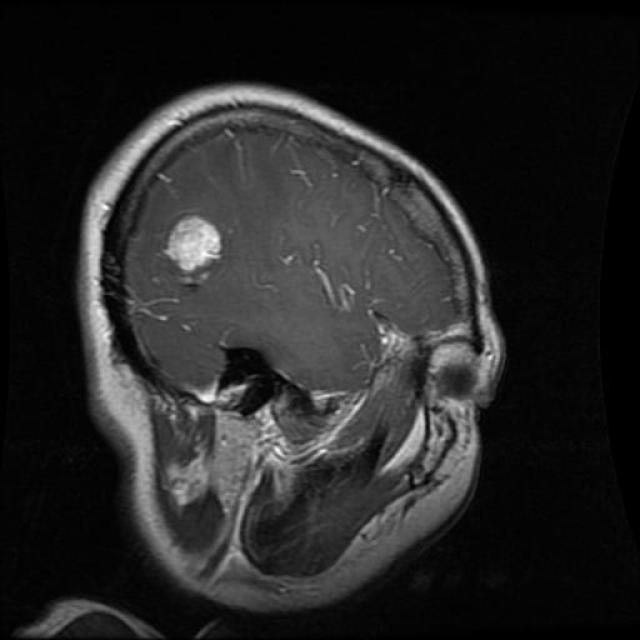glioma: (168, 215, 222, 276)
